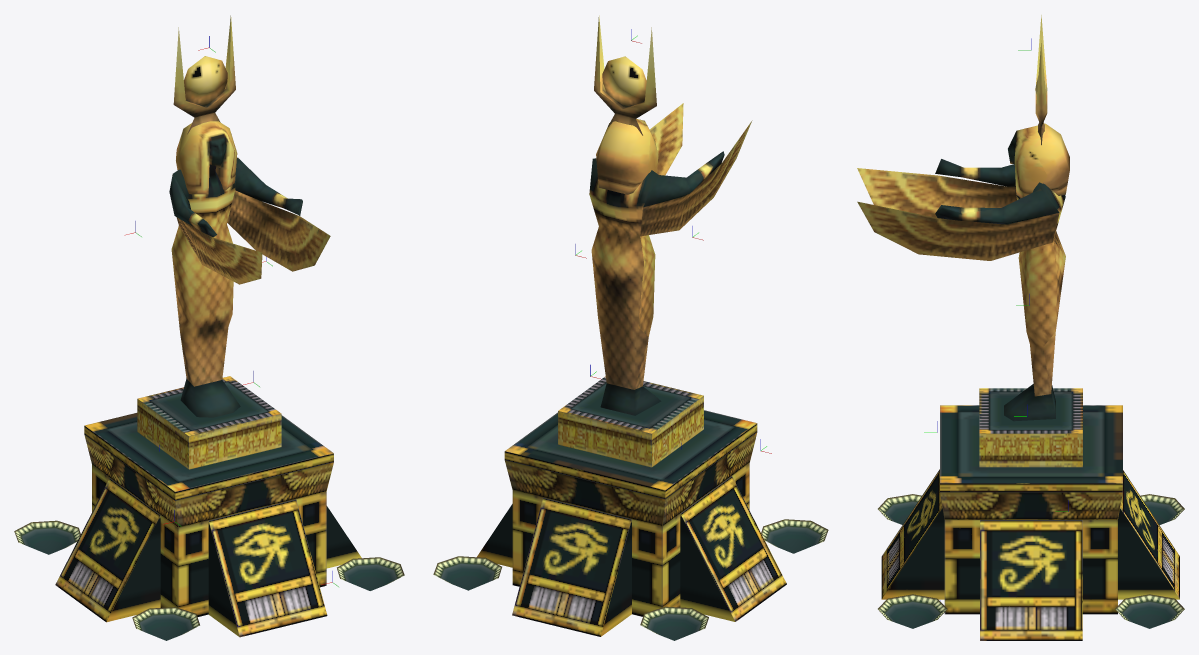
Rendered from egyptian-monument-to-gods.glb.
The picture shows the model from 3 angles, left to right: view 1: azimuth 30°, elevation 25°; view 2: azimuth 150°, elevation 25°; view 3: azimuth 270°, elevation 25°; orthographic projection.
Visible parts, largest first — view 1: building e monument5Model; view 2: building e monument5Model; view 3: building e monument5Model.
Boxes of the visible parts, x1=… form: building e monument5Model: x1=14, y1=15, x2=404, y2=640; building e monument5Model: x1=433, y1=15, x2=828, y2=640; building e monument5Model: x1=857, y1=15, x2=1184, y2=640.
Bounding box in the file's own units: 5.84 × 11.59 × 6.23.
Materials: 4 (3 with a texture image).
